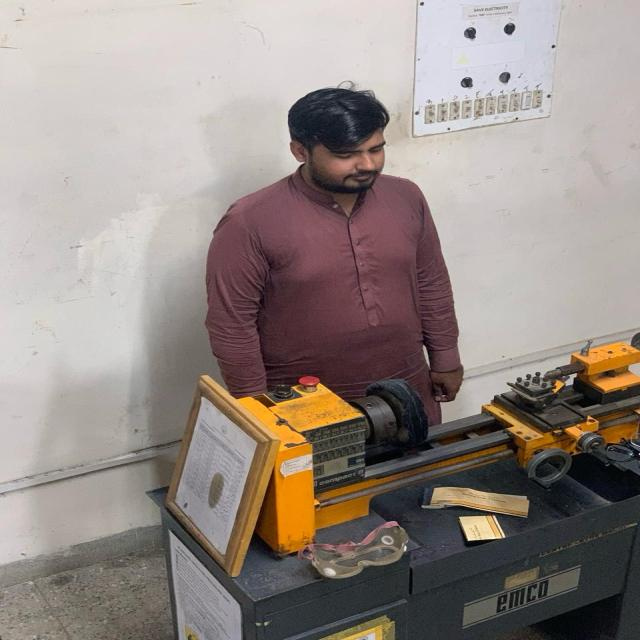dress: (195, 153, 477, 433)
